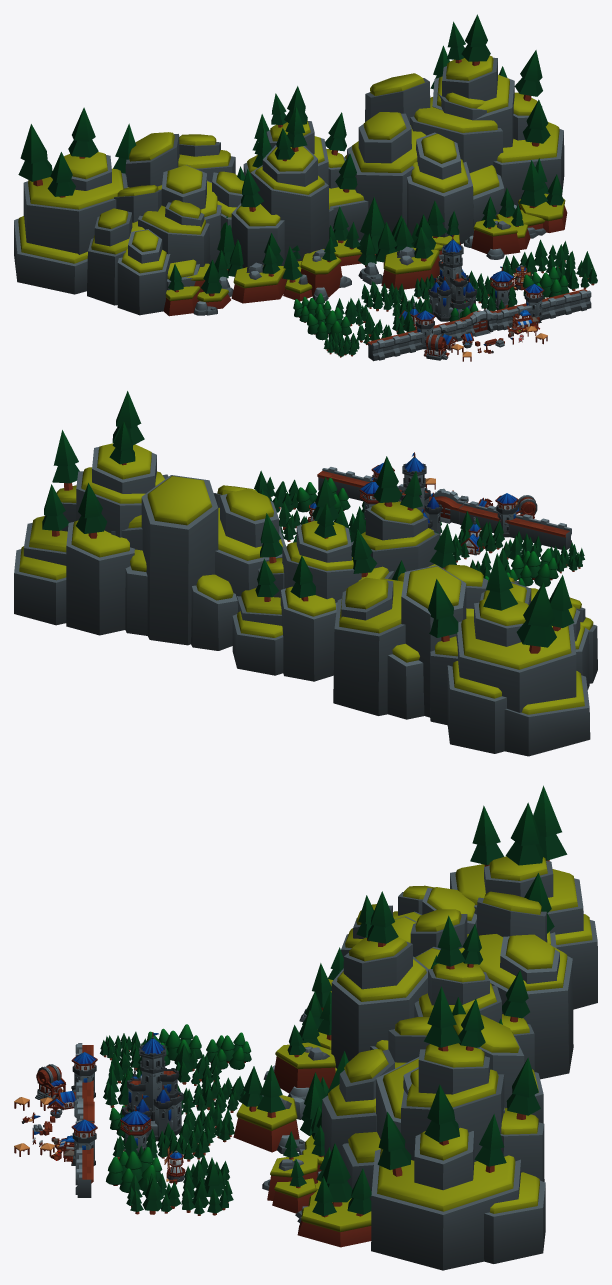
The model's file is level_9.glb.
The picture shows the model from 3 angles, top to bottom: view 1: azimuth 30°, elevation 25°; view 2: azimuth 150°, elevation 25°; view 3: azimuth 270°, elevation 25°; orthographic projection. The views are drawn at different scales.
Parts seen in each view (by area): view 1: Ortam_5, Ortam_4, Ortam_1, Ortam_3, Ortam_2; view 2: Ortam_5, Ortam_4, Ortam_3, Ortam_1, Ortam_2; view 3: Ortam_4, Ortam_5, Ortam_3, Ortam_2, Ortam_1.
Part boxes in pixels (x1,y1,x2,y2): Ortam_5: (14, 73, 504, 294); Ortam_4: (87, 14, 575, 357); Ortam_1: (367, 284, 591, 361); Ortam_3: (307, 251, 597, 344); Ortam_2: (423, 235, 539, 360); Ortam_5: (111, 456, 590, 756); Ortam_4: (14, 391, 597, 689); Ortam_3: (254, 470, 558, 586); Ortam_1: (317, 463, 571, 549); Ortam_2: (398, 452, 537, 535); Ortam_4: (100, 885, 545, 1270); Ortam_5: (321, 785, 597, 1200); Ortam_3: (106, 1024, 234, 1214); Ortam_2: (35, 1032, 183, 1161); Ortam_1: (14, 1043, 97, 1197).
Bounding box in the file's own units: 134 × 44.67 × 103.
1 material, 1 textured.
